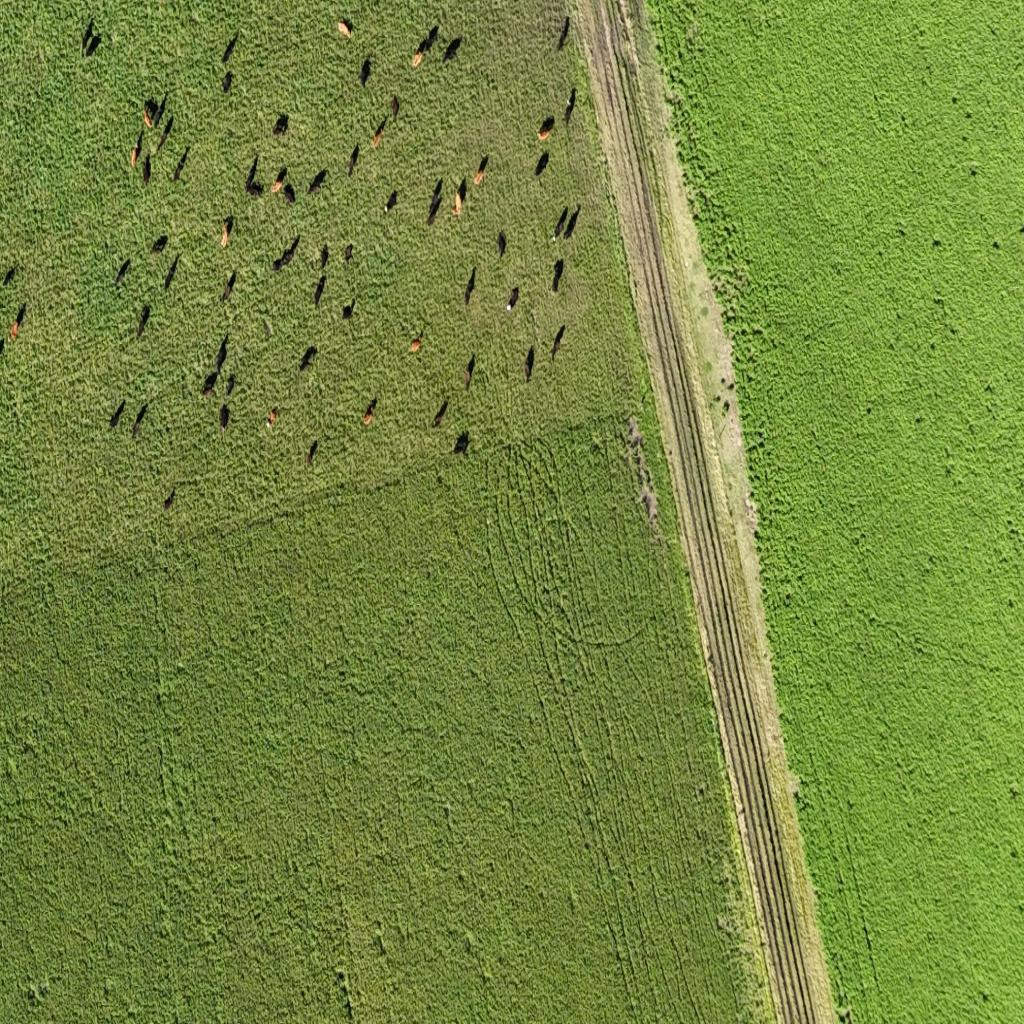cow: (245, 157, 263, 198), (156, 114, 173, 154), (164, 252, 180, 292), (563, 205, 580, 241), (131, 402, 147, 439), (552, 204, 568, 240), (452, 176, 466, 217), (109, 400, 126, 432), (172, 148, 188, 182), (442, 38, 462, 65), (136, 303, 150, 341), (222, 31, 238, 64), (284, 236, 300, 268), (551, 324, 565, 360), (222, 268, 236, 304), (152, 94, 166, 130), (216, 332, 228, 374), (201, 370, 219, 398), (114, 258, 130, 289), (81, 19, 95, 54), (564, 88, 576, 128), (432, 398, 448, 428), (423, 24, 439, 54), (427, 192, 441, 226), (299, 346, 317, 372), (308, 170, 326, 196), (131, 132, 143, 170), (453, 428, 469, 456), (347, 143, 360, 177), (272, 166, 287, 195), (372, 118, 386, 149), (558, 14, 570, 50), (551, 258, 563, 294), (222, 214, 234, 250), (273, 112, 289, 138), (314, 274, 326, 308), (535, 150, 549, 179), (466, 264, 476, 304), (476, 153, 488, 186), (150, 234, 168, 256), (363, 398, 377, 426), (384, 189, 398, 217), (464, 354, 474, 391), (306, 439, 318, 469), (506, 286, 518, 316), (537, 120, 553, 142), (141, 152, 151, 187), (85, 35, 100, 58), (524, 347, 534, 381), (163, 486, 176, 510), (15, 303, 27, 329), (142, 104, 154, 130), (360, 59, 370, 89), (272, 251, 286, 272), (497, 230, 507, 259), (338, 18, 352, 38), (390, 93, 400, 121), (9, 320, 21, 343), (413, 50, 426, 71), (319, 242, 329, 269), (342, 299, 354, 321), (222, 70, 233, 94), (284, 183, 296, 205), (220, 402, 229, 431), (3, 266, 16, 286), (410, 334, 423, 354), (226, 372, 236, 397), (344, 242, 354, 266), (207, 45, 217, 66), (267, 406, 277, 426), (263, 320, 271, 338), (0, 334, 6, 353), (722, 399, 730, 413), (992, 240, 1000, 250), (933, 238, 941, 248), (1020, 225, 1024, 234)
